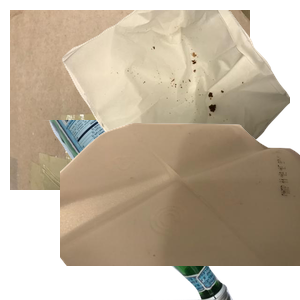cardboard: (10, 10, 250, 190)
glass: (37, 120, 262, 300)
plastic: (60, 120, 300, 300)
trash: (60, 10, 300, 190)
